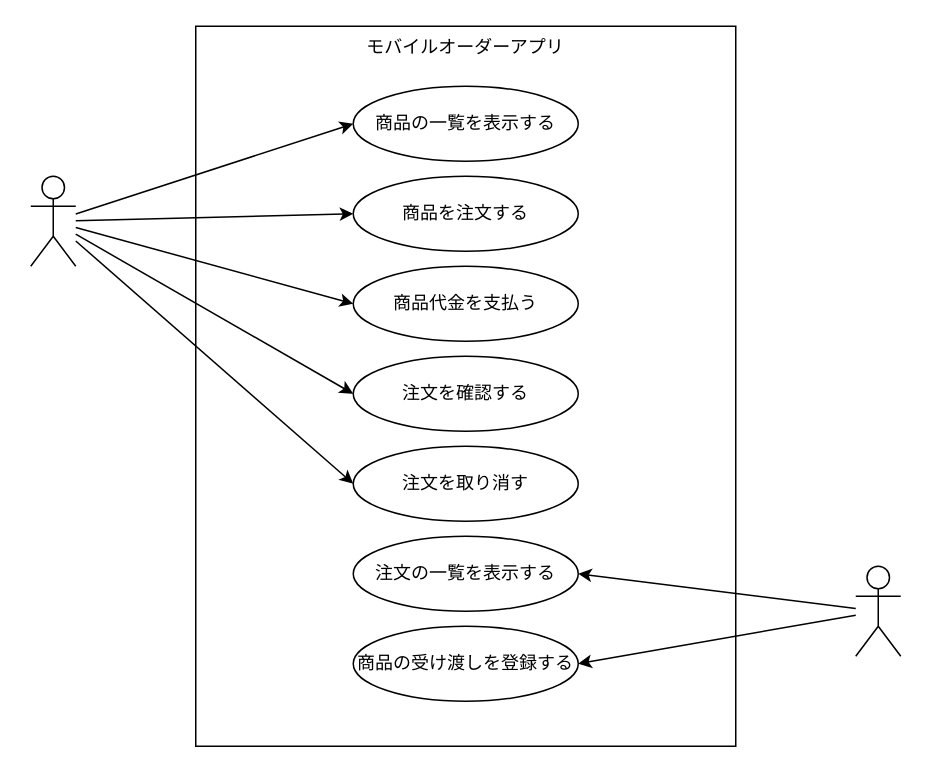
This 927x773 diagram has some shape labels left out. The centre of each missing label's shape, as x and y in pixels:
お客様: [52,220]
店員: [877,610]
